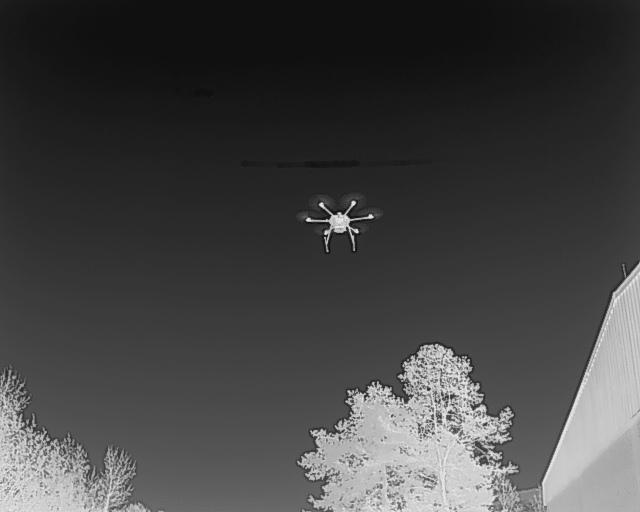drone: (293, 188, 388, 261)
